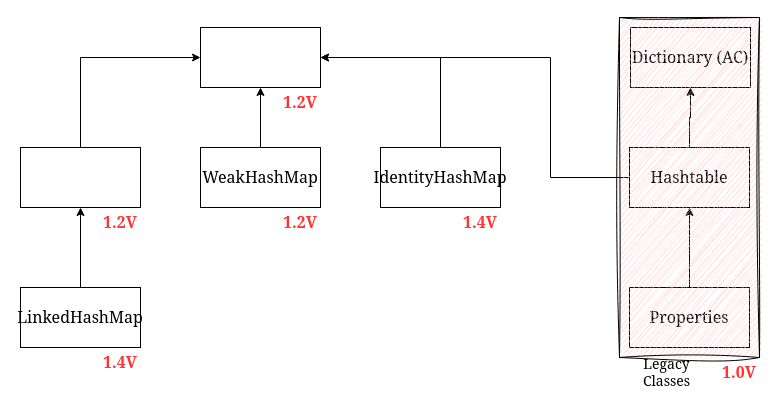
Some shapes in this 777 by 407 pixel diagram are drawn without their labels. The shapes that lost their labels are listed below. From the top down, each one's centre as x and y in pixels, then its label:
At [260,57]: "Map (I)".
At [80,177]: "HashMap".
